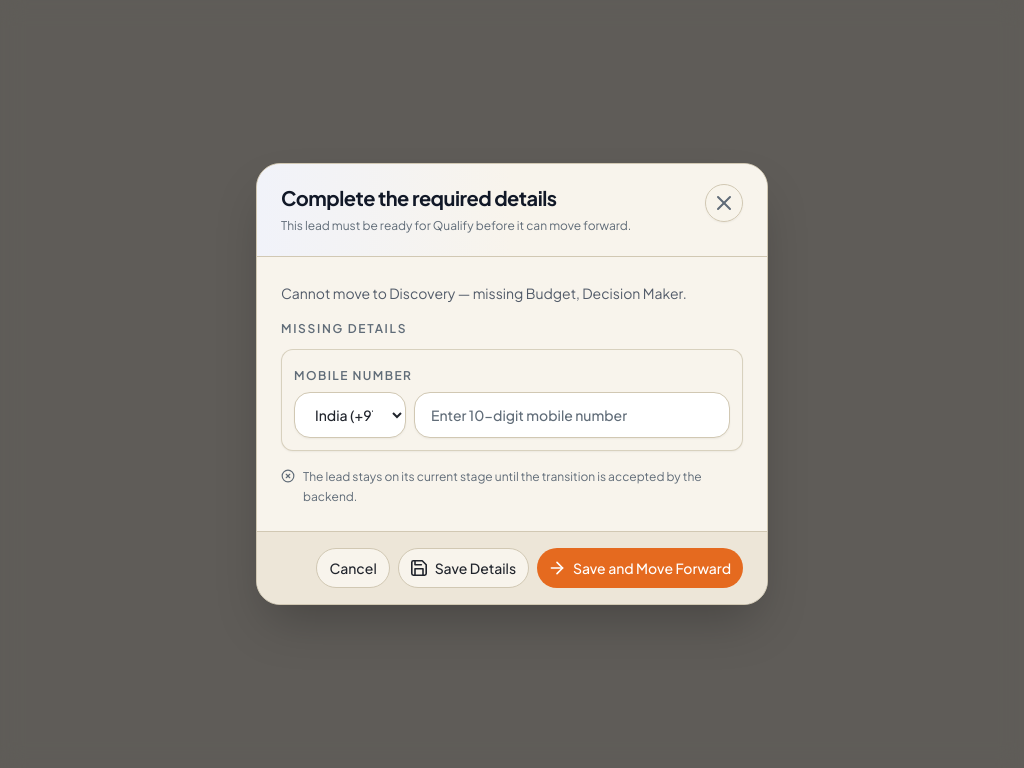
Test case: StageRequirementsDialog › limits the mobile number input to 10 digits
The image size is (1024, 768).
Type "987654321012345" into the field labelled "mobile number" at (572, 415), box [414,392,730,438]
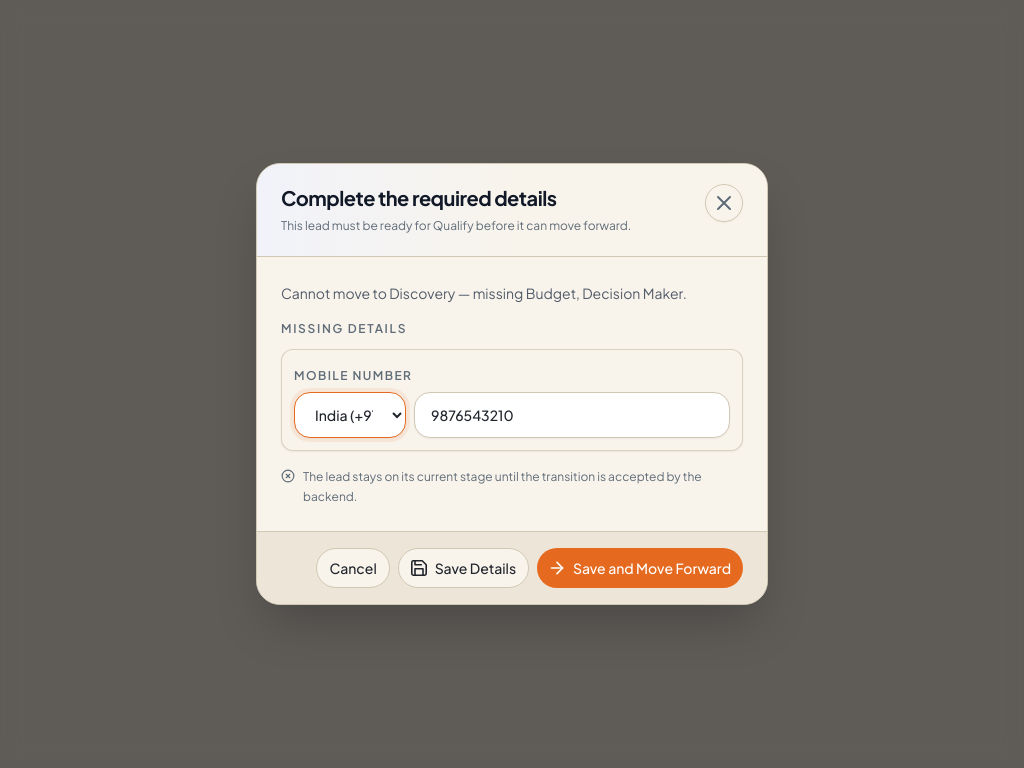
Result: the field named "mobile number" holds "9876543210" at [414,392,730,438]
